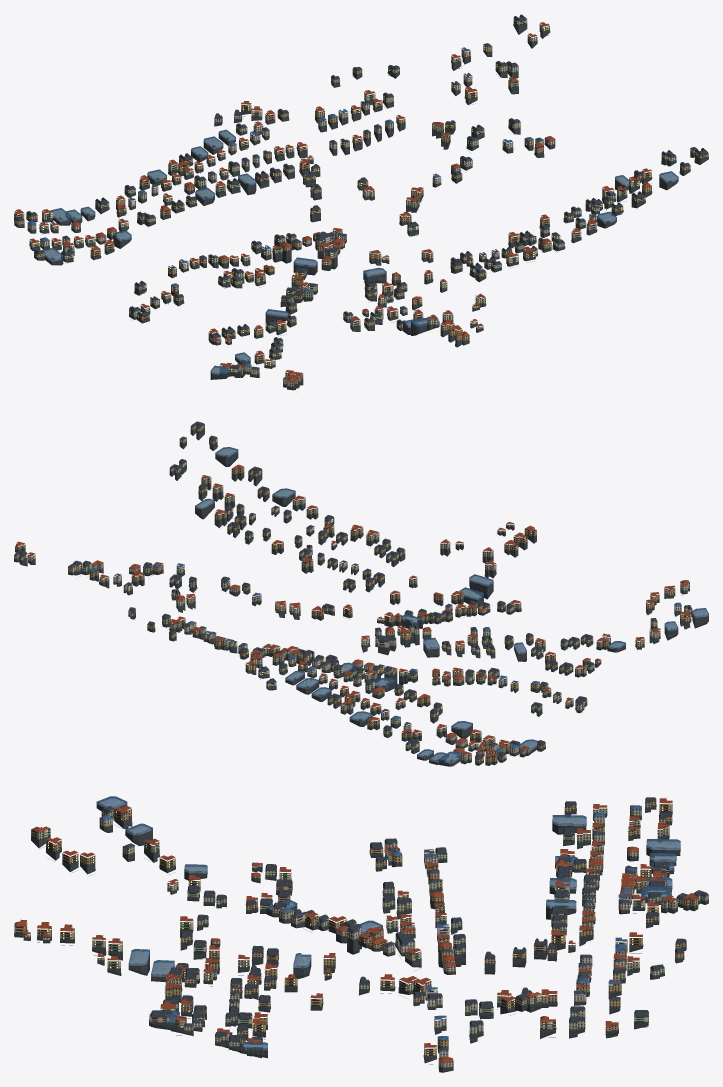
File: osm_buildings_T_E02_N00_Q3.glb
3 views of the same model, one above another, from view 1: azimuth 30°, elevation 25°; view 2: azimuth 150°, elevation 25°; view 3: azimuth 270°, elevation 25° (orthographic). The views are drawn at different scales.
Visible parts, largest first — view 1: OSM_T_E02_N00_Q3_foundation, OSM_T_E02_N00_Q3_wall_french_ochre, OSM_T_E02_N00_Q3_wall_cream_stucco, OSM_T_E02_N00_Q3_roof_terracotta, OSM_T_E02_N00_Q3_roof_mansard_slate, OSM_T_E02_N00_Q3_greenhouse_blend, OSM_T_E02_N00_Q3_roof_mansard_deck, OSM_T_E02_N00_Q3_wall_warm_white, OSM_T_E02_N00_Q3_roof_mint_metal, OSM_T_E02_N00_Q3_balcony_railing, OSM_T_E02_N00_Q3_wall_pastel_sand, OSM_T_E02_N00_Q3_trim_cornice (+1 smaller); view 2: OSM_T_E02_N00_Q3_foundation, OSM_T_E02_N00_Q3_wall_french_ochre, OSM_T_E02_N00_Q3_wall_cream_stucco, OSM_T_E02_N00_Q3_roof_terracotta, OSM_T_E02_N00_Q3_roof_mansard_slate, OSM_T_E02_N00_Q3_greenhouse_blend, OSM_T_E02_N00_Q3_roof_mansard_deck, OSM_T_E02_N00_Q3_wall_warm_white, OSM_T_E02_N00_Q3_roof_mint_metal, OSM_T_E02_N00_Q3_wall_pastel_sand, OSM_T_E02_N00_Q3_trim_cornice; view 3: OSM_T_E02_N00_Q3_foundation, OSM_T_E02_N00_Q3_wall_french_ochre, OSM_T_E02_N00_Q3_wall_cream_stucco, OSM_T_E02_N00_Q3_roof_terracotta, OSM_T_E02_N00_Q3_roof_mansard_slate, OSM_T_E02_N00_Q3_greenhouse_blend, OSM_T_E02_N00_Q3_roof_mansard_deck, OSM_T_E02_N00_Q3_trim_cornice, OSM_T_E02_N00_Q3_wall_warm_white, OSM_T_E02_N00_Q3_roof_mint_metal, OSM_T_E02_N00_Q3_wall_pastel_sand, OSM_T_E02_N00_Q3_balcony_railing (+2 smaller).
Part boxes in pixels (x1,y1,x2,y2): OSM_T_E02_N00_Q3_foundation: [14, 22, 708, 390]; OSM_T_E02_N00_Q3_wall_french_ochre: [14, 24, 708, 385]; OSM_T_E02_N00_Q3_wall_cream_stucco: [27, 16, 694, 387]; OSM_T_E02_N00_Q3_roof_terracotta: [14, 17, 651, 381]; OSM_T_E02_N00_Q3_roof_mansard_slate: [14, 15, 708, 369]; OSM_T_E02_N00_Q3_greenhouse_blend: [42, 129, 678, 375]; OSM_T_E02_N00_Q3_roof_mansard_deck: [16, 14, 707, 375]; OSM_T_E02_N00_Q3_wall_warm_white: [62, 74, 560, 372]; OSM_T_E02_N00_Q3_roof_mint_metal: [14, 24, 708, 387]; OSM_T_E02_N00_Q3_balcony_railing: [14, 20, 698, 382]; OSM_T_E02_N00_Q3_wall_pastel_sand: [40, 35, 597, 342]; OSM_T_E02_N00_Q3_trim_cornice: [16, 19, 707, 385]; OSM_T_E02_N00_Q3_foundation: [14, 428, 708, 766]; OSM_T_E02_N00_Q3_wall_french_ochre: [15, 425, 691, 763]; OSM_T_E02_N00_Q3_wall_cream_stucco: [14, 438, 692, 761]; OSM_T_E02_N00_Q3_roof_terracotta: [15, 464, 690, 756]; OSM_T_E02_N00_Q3_roof_mansard_slate: [14, 423, 691, 759]; OSM_T_E02_N00_Q3_greenhouse_blend: [195, 447, 708, 763]; OSM_T_E02_N00_Q3_roof_mansard_deck: [15, 421, 708, 762]; OSM_T_E02_N00_Q3_wall_warm_white: [113, 526, 681, 751]; OSM_T_E02_N00_Q3_roof_mint_metal: [14, 431, 691, 763]; OSM_T_E02_N00_Q3_wall_pastel_sand: [28, 507, 601, 753]; OSM_T_E02_N00_Q3_trim_cornice: [16, 428, 692, 760]; OSM_T_E02_N00_Q3_foundation: [14, 804, 708, 1072]; OSM_T_E02_N00_Q3_wall_french_ochre: [14, 801, 698, 1056]; OSM_T_E02_N00_Q3_wall_cream_stucco: [23, 807, 708, 1046]; OSM_T_E02_N00_Q3_roof_terracotta: [14, 798, 697, 1062]; OSM_T_E02_N00_Q3_roof_mansard_slate: [102, 797, 708, 1050]; OSM_T_E02_N00_Q3_greenhouse_blend: [96, 796, 680, 1050]; OSM_T_E02_N00_Q3_roof_mansard_deck: [98, 797, 706, 1049]; OSM_T_E02_N00_Q3_trim_cornice: [14, 803, 707, 1064]; OSM_T_E02_N00_Q3_wall_warm_white: [99, 818, 635, 1057]; OSM_T_E02_N00_Q3_roof_mint_metal: [14, 807, 708, 1057]; OSM_T_E02_N00_Q3_wall_pastel_sand: [43, 816, 630, 1067]; OSM_T_E02_N00_Q3_balcony_railing: [26, 806, 686, 1053].
Bounding box in the file's own units: 989 × 214 × 849.
Materials: 16 (16 with a texture image).
